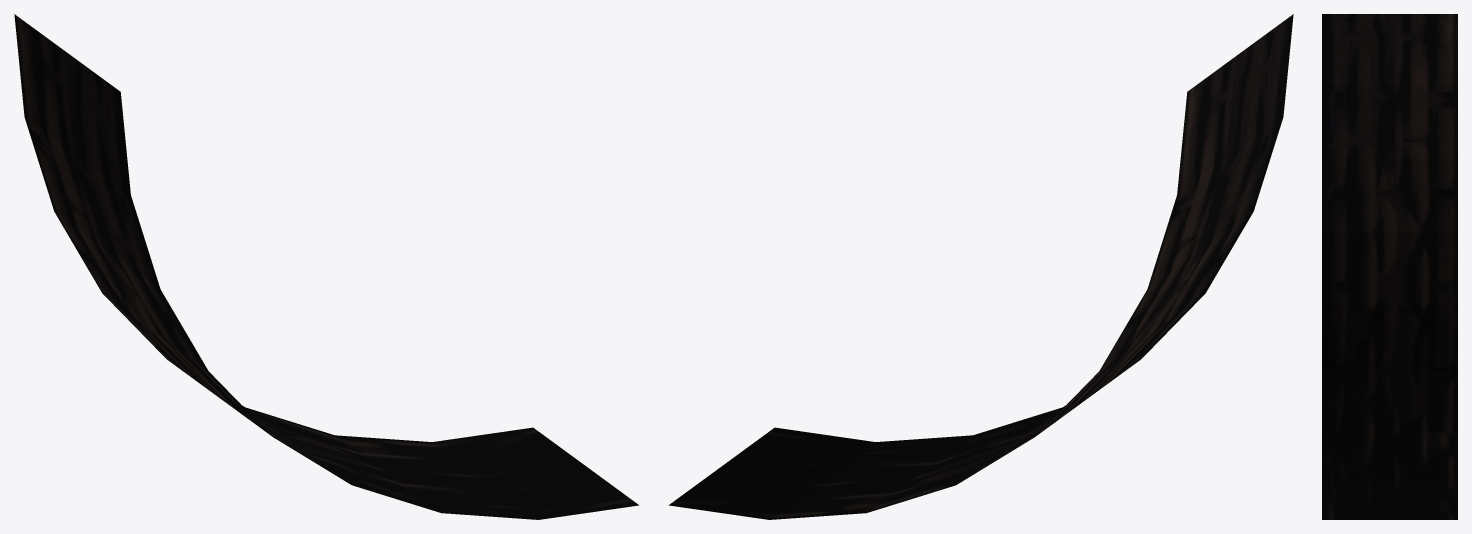
The model's file is collide_InCorner1.obj.
The picture shows the model from 3 angles, left to right: view 1: azimuth 30°, elevation 25°; view 2: azimuth 150°, elevation 25°; view 3: azimuth 270°, elevation 25°; orthographic projection. The views are drawn at different scales.
Parts seen in each view (by area): view 1: ex_InCorner1_Cube.126; view 2: ex_InCorner1_Cube.126; view 3: ex_InCorner1_Cube.126.
Part boxes in pixels (x1,y1,x2,y2): ex_InCorner1_Cube.126: (14, 14, 638, 519); ex_InCorner1_Cube.126: (669, 14, 1293, 519); ex_InCorner1_Cube.126: (1322, 14, 1457, 519).
Size of the model in its own units: 121 by 120 by 42.91.
